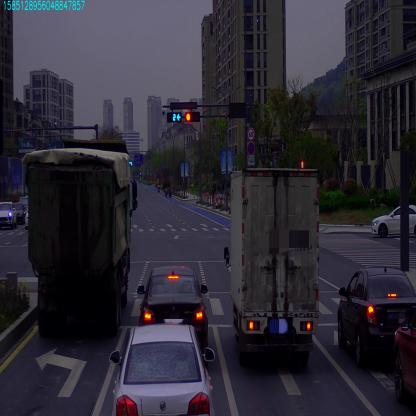traffic-light: (167, 110, 183, 122), (185, 112, 200, 123)
